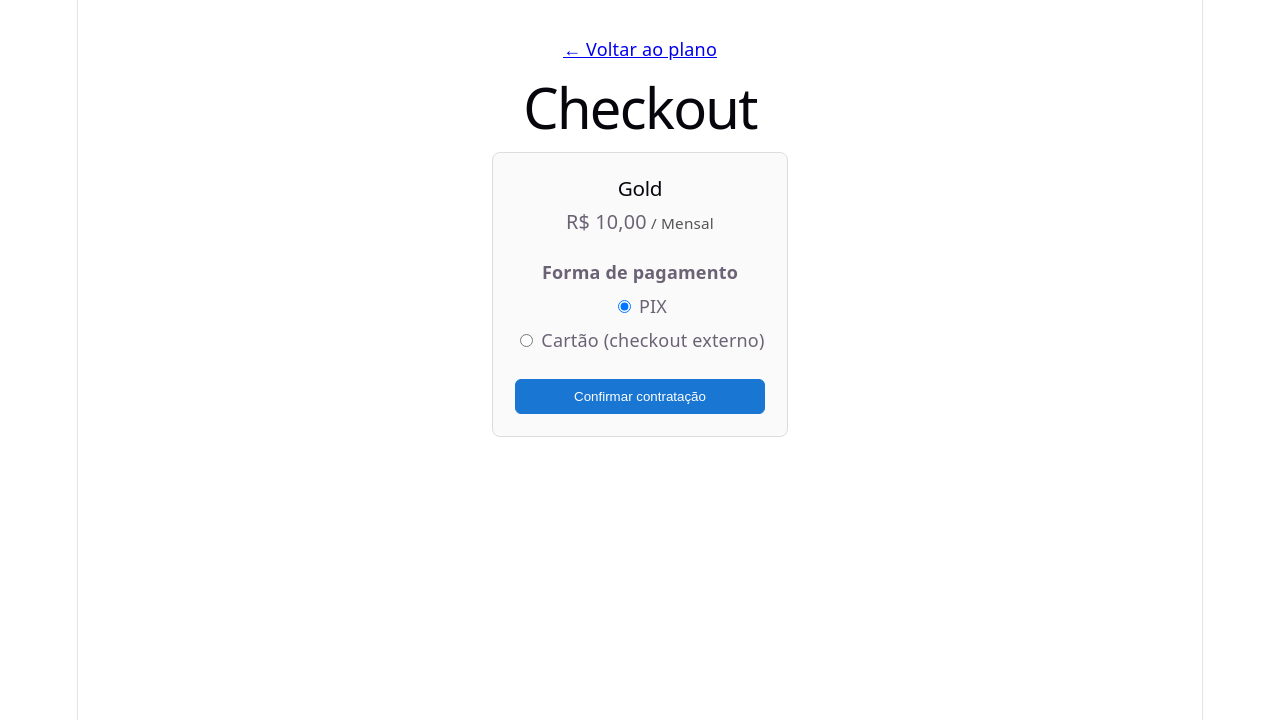
SubscriptionCheckoutPage › shows error on 409
The image size is (1280, 720).
expect the heading "Gold" is shown: met, box top-left (618, 174), bottom-right (662, 202)
Click the button "Confirmar contratação" at (640, 396), box top-left (516, 379), bottom-right (764, 414)
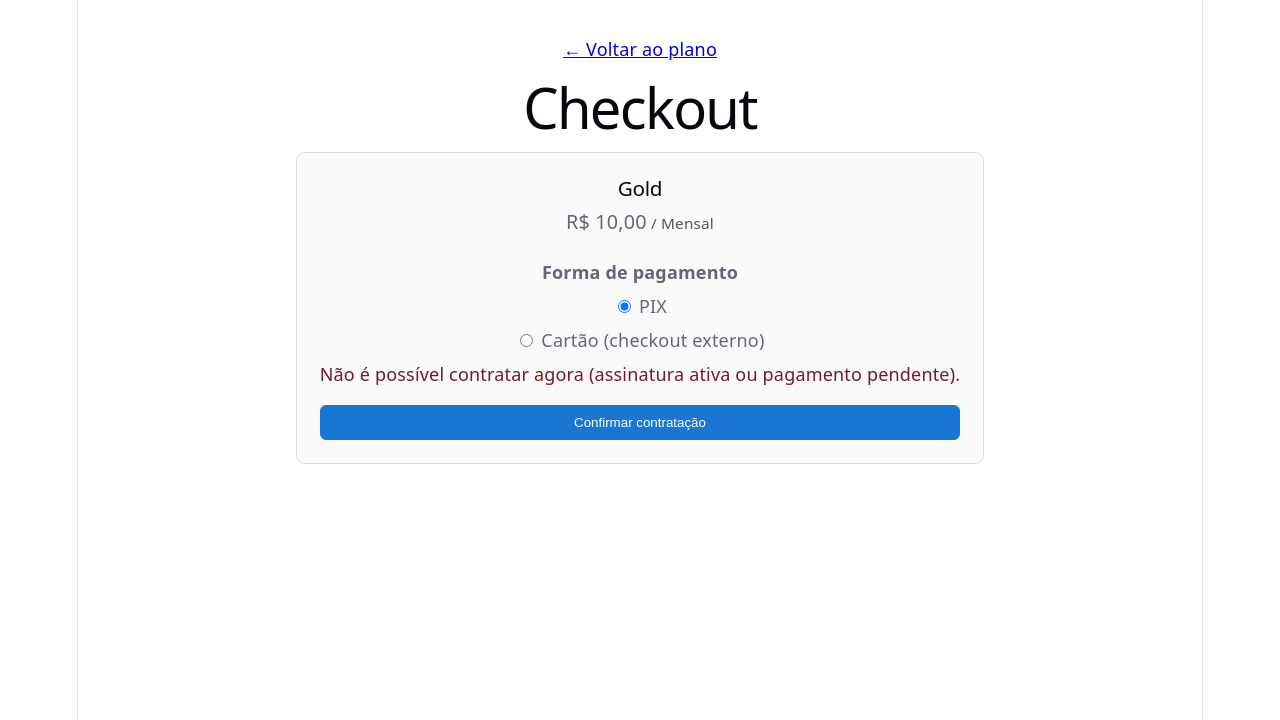
expect the text "pagamento pendente" is shown: met, box top-left (320, 362), bottom-right (960, 386)
